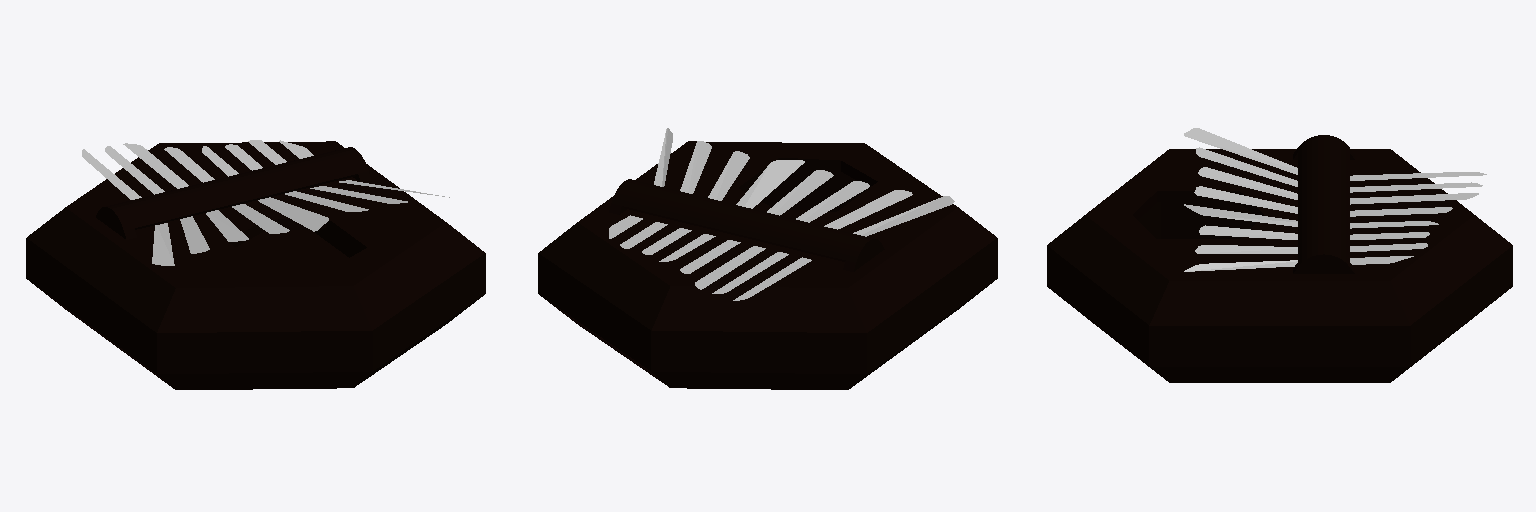
File: kalimba.obj
3 views of the same model, side by side, from view 1: azimuth 30°, elevation 25°; view 2: azimuth 150°, elevation 25°; view 3: azimuth 270°, elevation 25° (orthographic).
Visible parts, largest first — view 1: Cube.001_Cube.003, Plane; view 2: Cube.001_Cube.003, Plane; view 3: Cube.001_Cube.003, Plane.
Part boxes in pixels (x1,y1,x2,y2): Cube.001_Cube.003: (26,141,485,389); Plane: (82,140,449,265); Cube.001_Cube.003: (538,141,997,389); Plane: (609,128,954,300); Cube.001_Cube.003: (1047,135,1512,382); Plane: (1184,128,1486,271).
Size of the model in its own units: 1.22 by 0.4327 by 1.5.